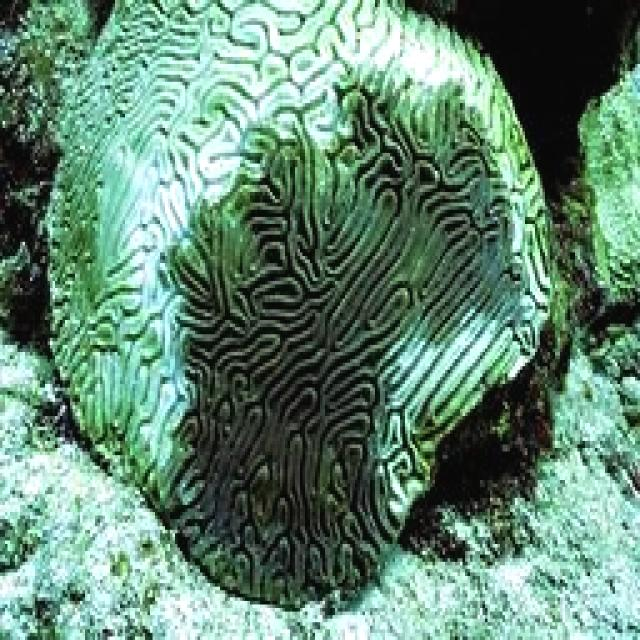Coral: (45, 0, 554, 611)
